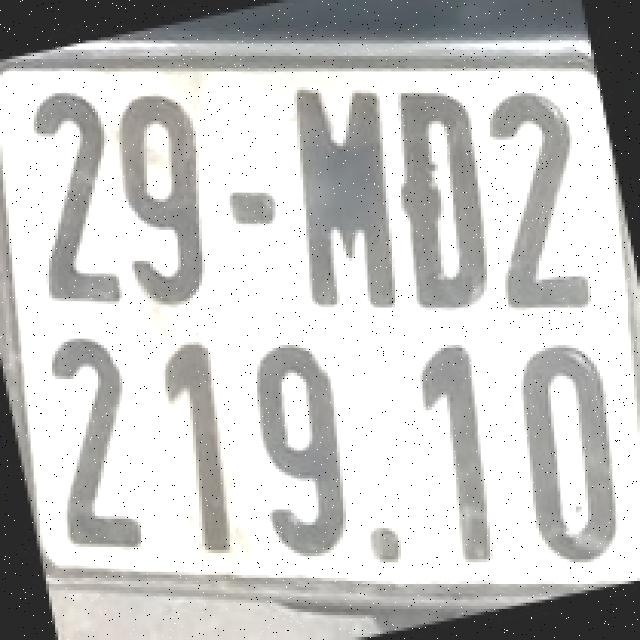0: (516, 339, 623, 562)
1: (415, 342, 501, 565), (158, 340, 240, 555)
2: (488, 85, 598, 312), (43, 332, 150, 553), (28, 84, 126, 311)
9: (251, 339, 355, 556), (116, 89, 212, 309)
D: (398, 88, 490, 316)
M: (291, 80, 395, 310)
